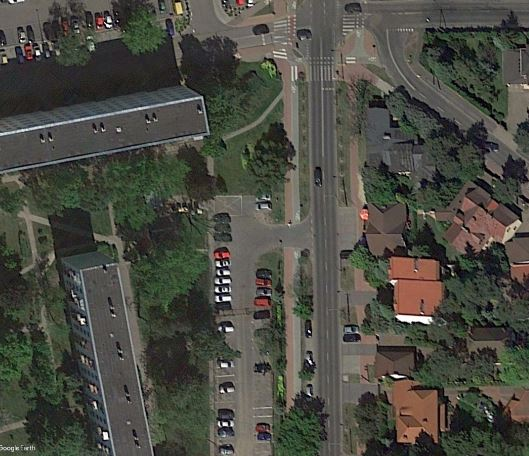block of flats: (1, 74, 220, 184), (55, 243, 161, 456)
family house: (442, 173, 523, 255), (383, 254, 453, 329), (391, 375, 454, 447), (359, 193, 420, 260), (367, 340, 424, 384)
